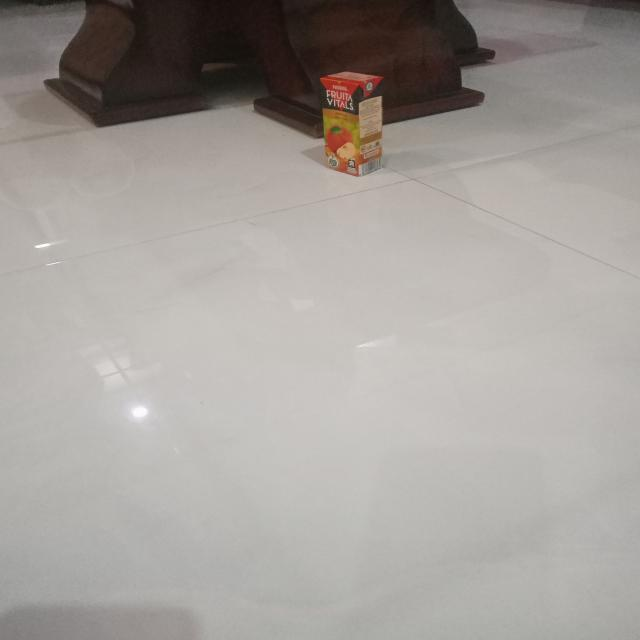Plastic: (312, 63, 392, 180)
